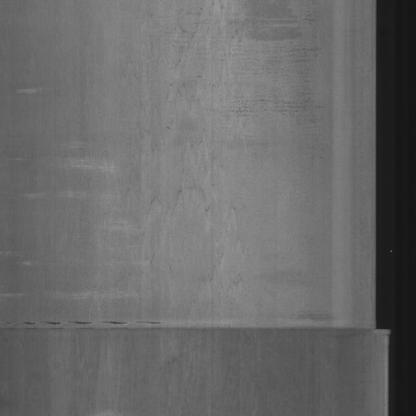welding_line: (2, 309, 399, 347)
